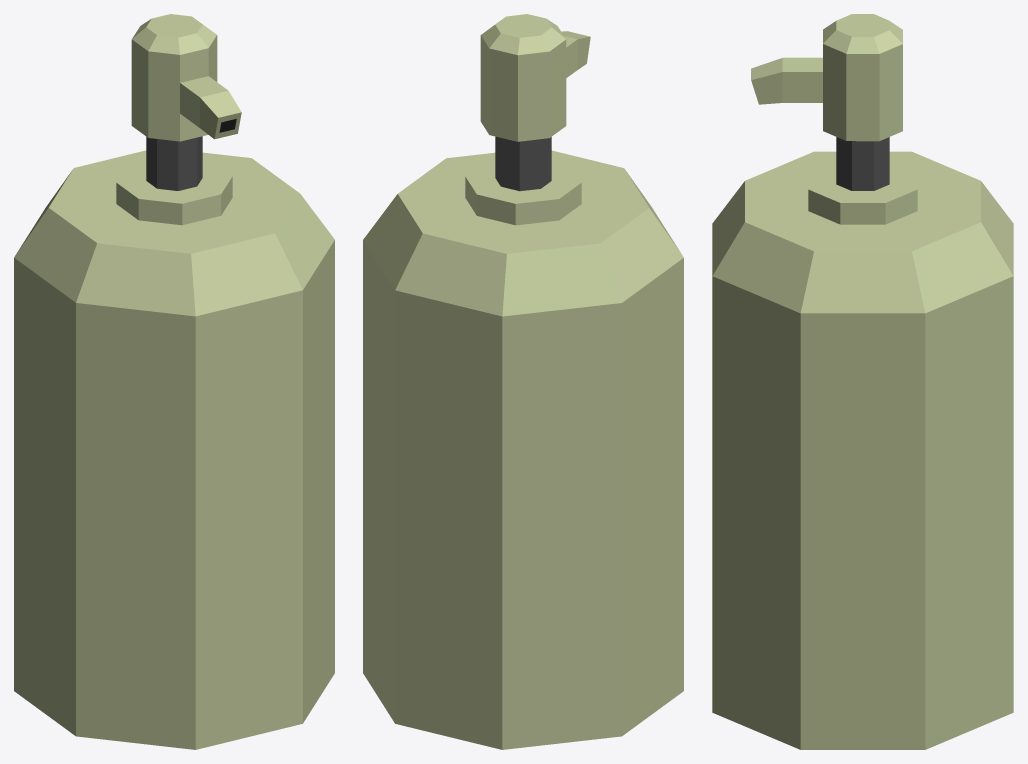
The model's file is KitchenProps_02.fbx.
3 renders of one model, left to right at view 1: azimuth 30°, elevation 25°; view 2: azimuth 150°, elevation 25°; view 3: azimuth 270°, elevation 25°, orthographic.
Visible parts, largest first — view 1: KitchenProps_02; view 2: KitchenProps_02; view 3: KitchenProps_02.
Part boxes in pixels (bbox=[...]): KitchenProps_02: bbox=[14, 14, 334, 749]; KitchenProps_02: bbox=[363, 14, 683, 749]; KitchenProps_02: bbox=[712, 14, 1013, 749].
Bounding box in the file's own units: 5.76 × 13.96 × 5.76.
